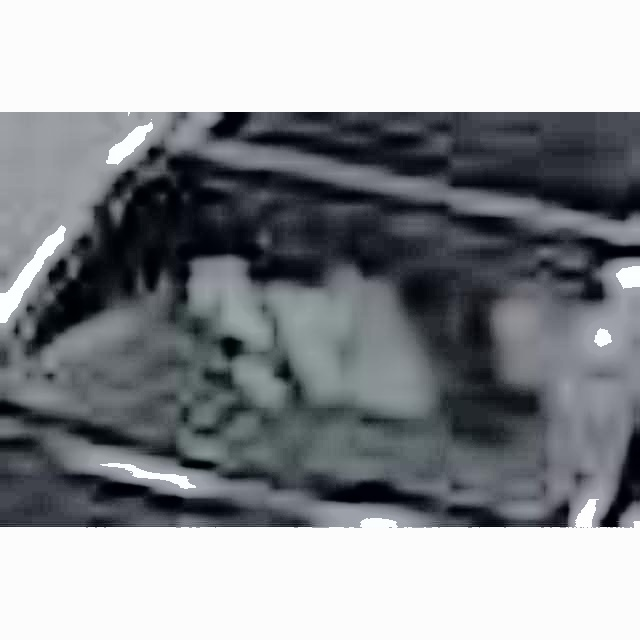pakai: (157, 168, 415, 438)
